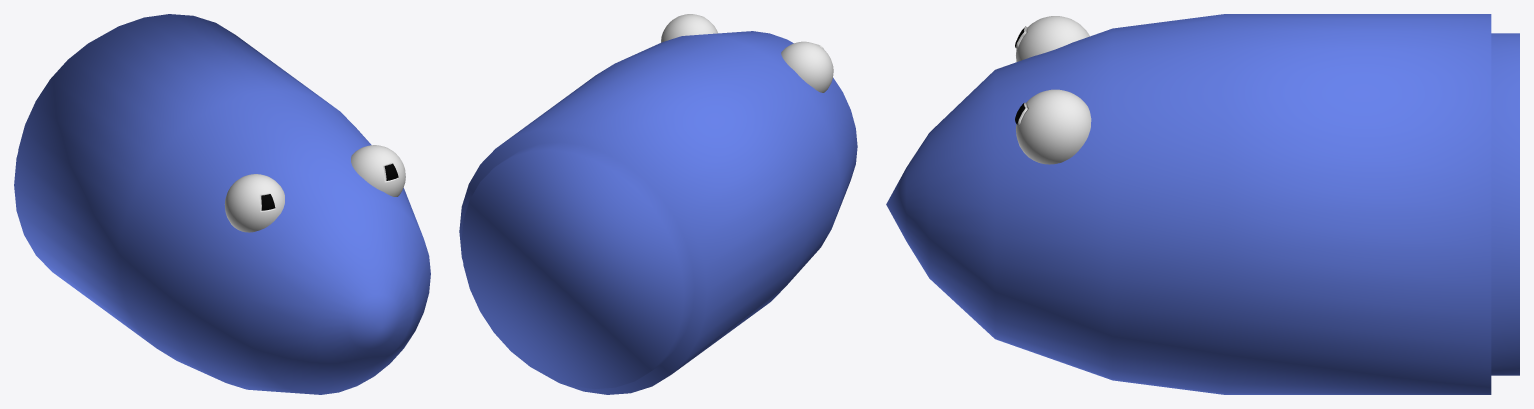
The model's file is head1.glb.
3 renders of one model, left to right at view 1: azimuth 30°, elevation 25°; view 2: azimuth 150°, elevation 25°; view 3: azimuth 270°, elevation 25°, orthographic. The views are drawn at different scales.
Visible parts, largest first — view 1: Sphere.001; view 2: Sphere.001; view 3: Sphere.001.
Part boxes in pixels (x1,y1,x2,y2): Sphere.001: [14, 14, 430, 394]; Sphere.001: [459, 14, 857, 394]; Sphere.001: [886, 14, 1519, 394].
Size of the model in its own units: 2 by 2 by 3.32.
